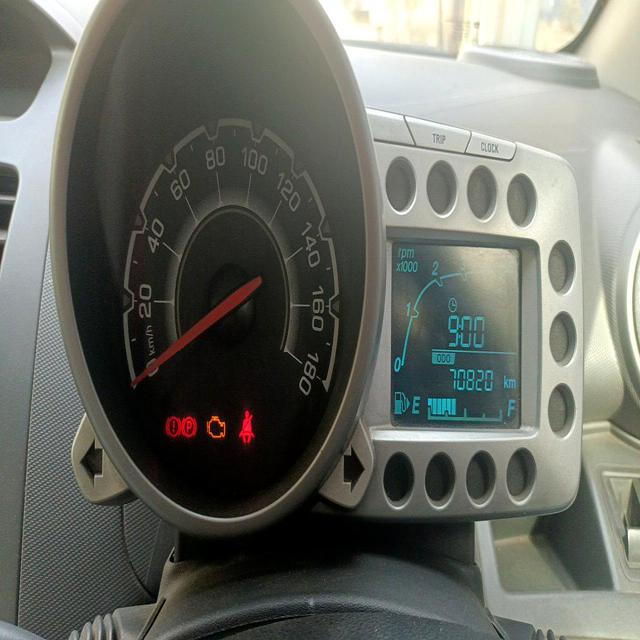odometer: (448, 362, 498, 399)
